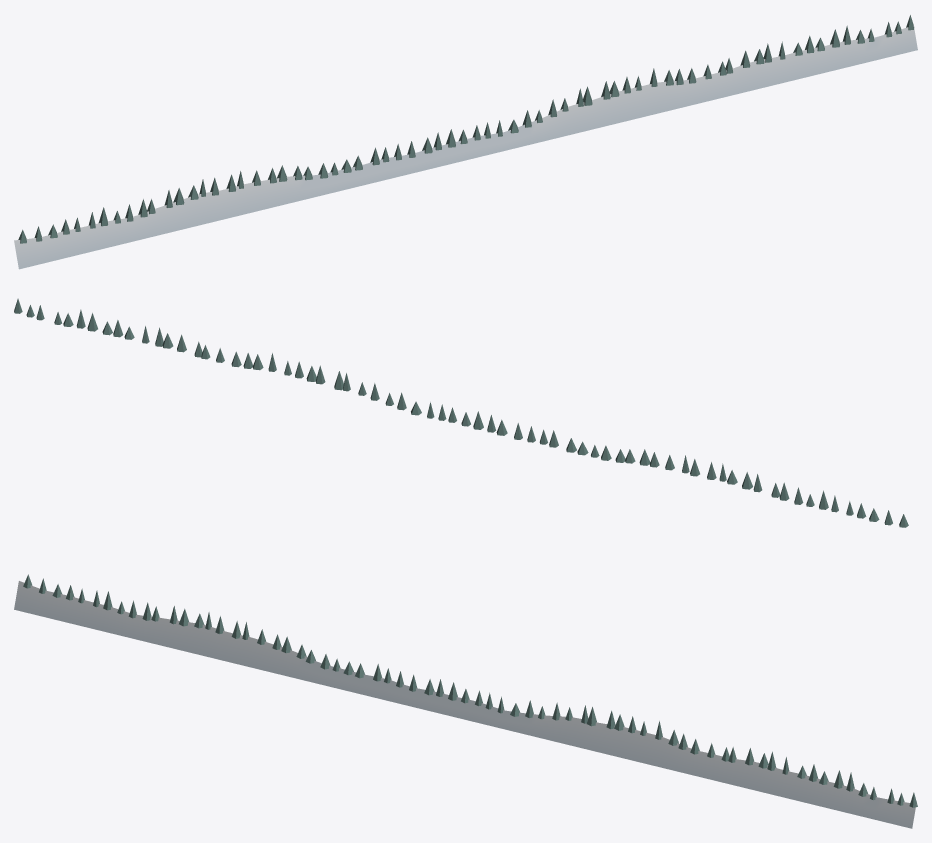
3 views of the same model, one above another, from view 1: azimuth 30°, elevation 25°; view 2: azimuth 150°, elevation 25°; view 3: azimuth 330°, elevation 25° (orthographic).
Parts seen in each view (by area): view 1: sw_hz_a; view 2: sw_hz_a; view 3: sw_hz_a.
Part boxes in pixels (x1,y1,x2,y2): sw_hz_a: [14, 15, 917, 269]; sw_hz_a: [14, 298, 908, 527]; sw_hz_a: [14, 574, 917, 828].
Bounding box in the file's own units: 421 × 18.49 × 6.89.
